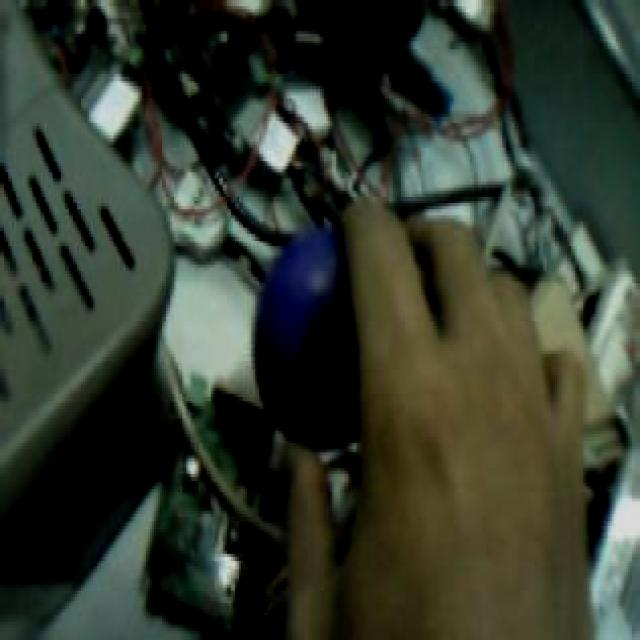BallPurple: (252, 231, 397, 451)
